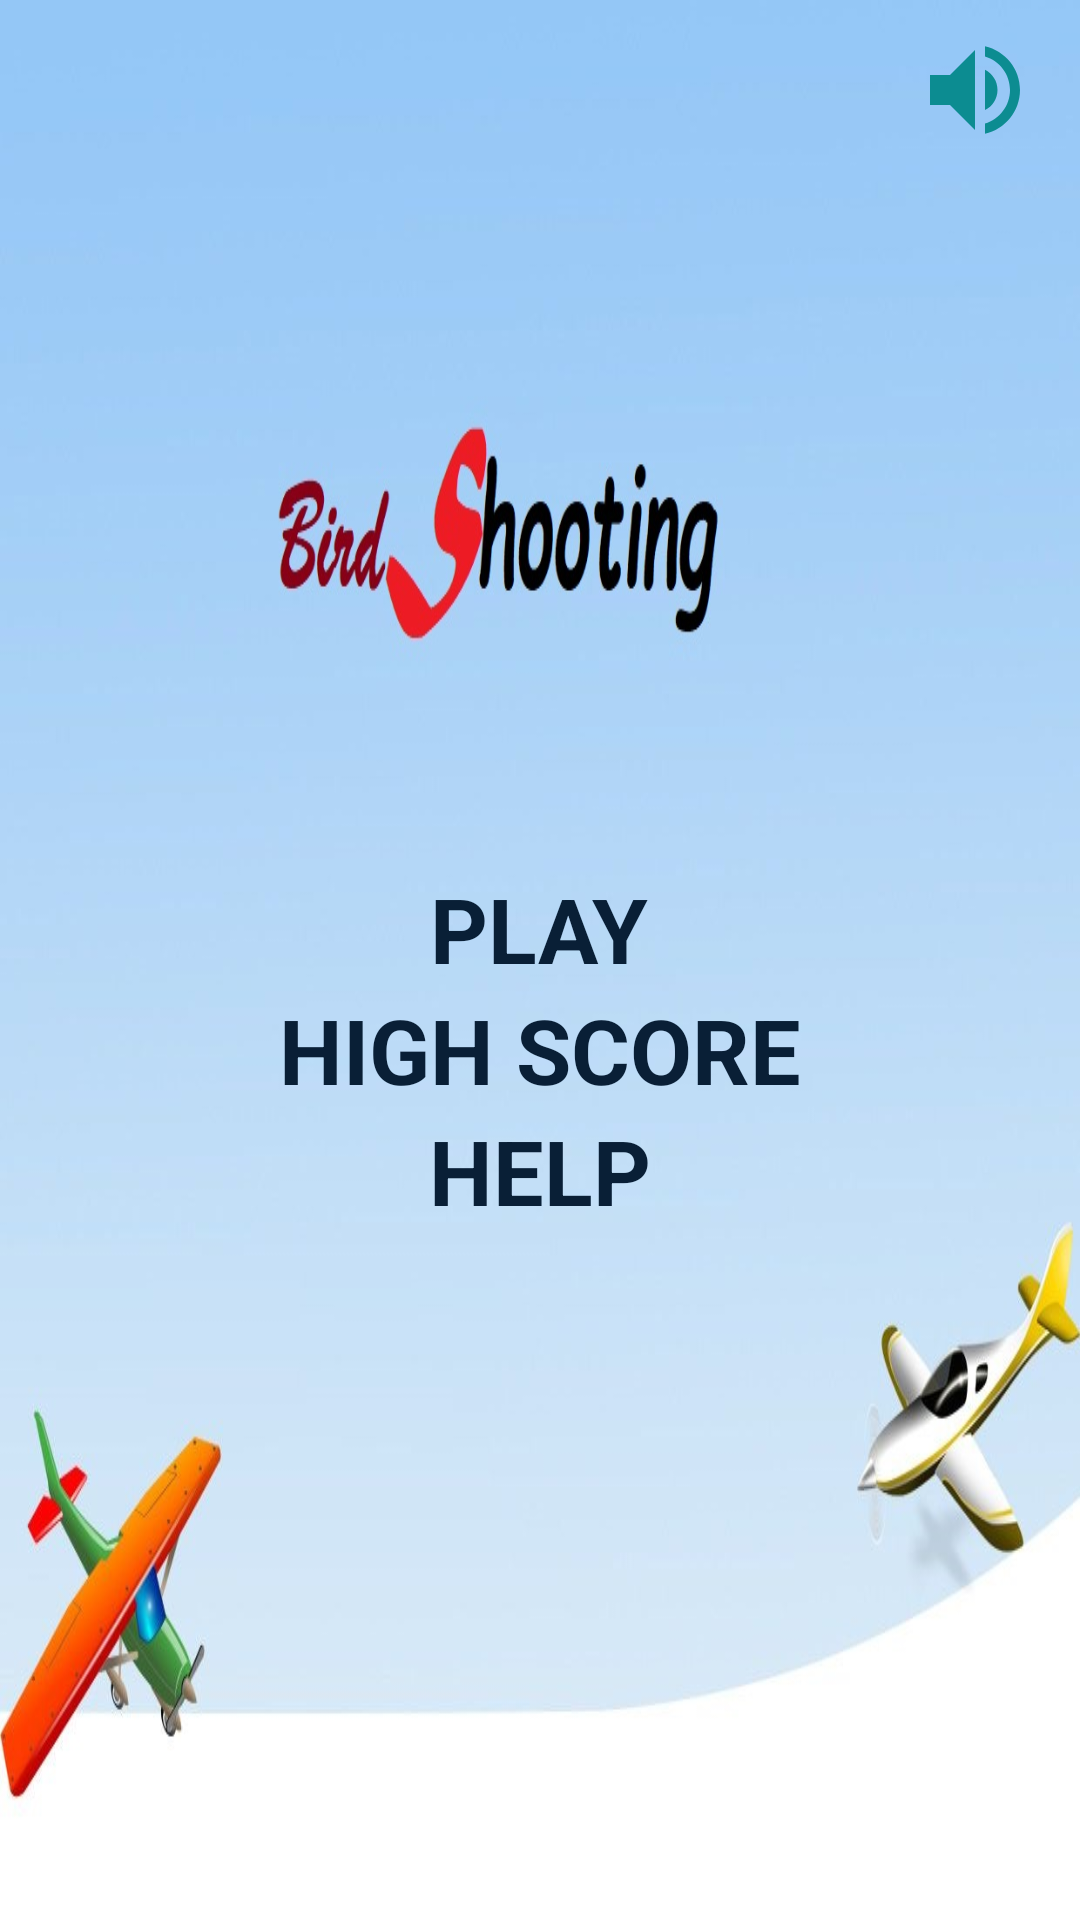

Icon bounding boxes for this 1080px x 1920px phone screenshot, format [left=x1, top=y1, right=x2, bottom=y2]:
volume up: [left=930, top=46, right=1020, bottom=134]
